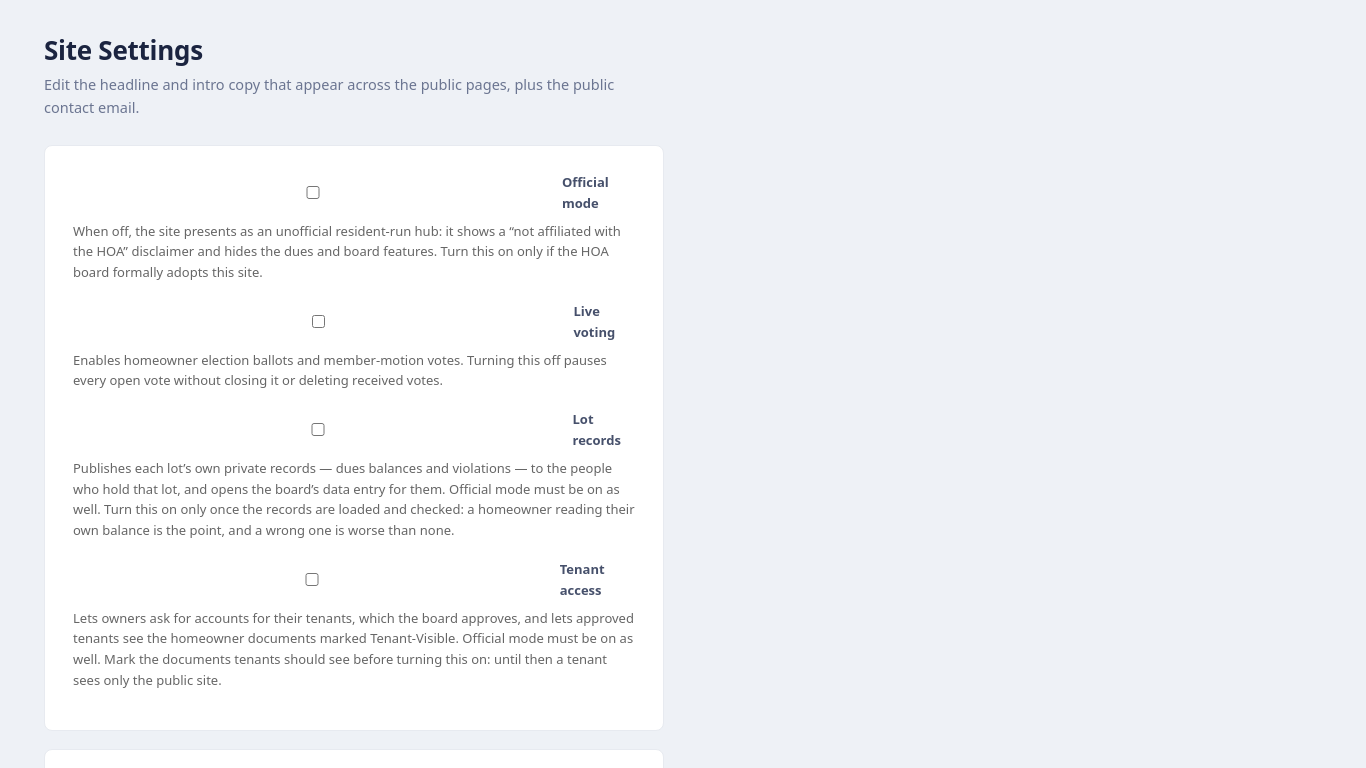
Test case: SiteManager gate toggles › shows the server conflict message and reloads when the gate changed first
Click the checkbox labelled "Official mode" at (313, 193), box [77, 186, 549, 199]
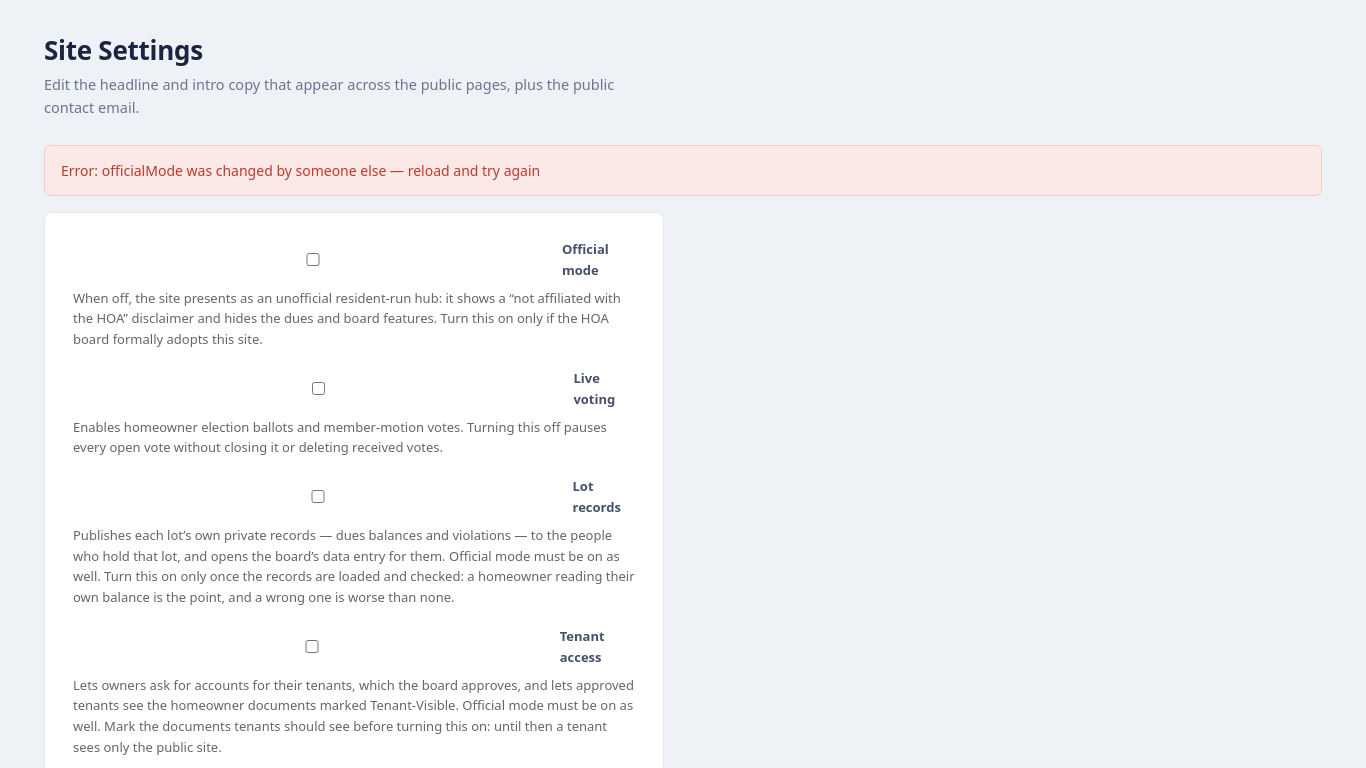
Expected: the text "officialMode was changed by someone else" is shown, [61, 161, 540, 180]
